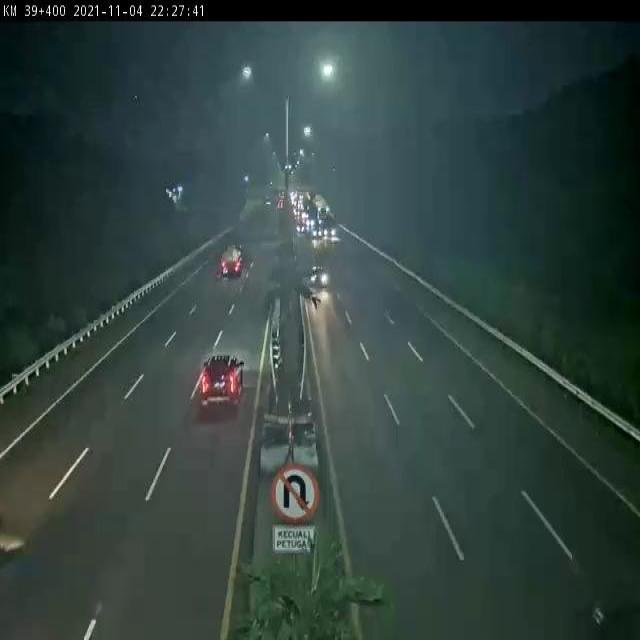car: (201, 356, 245, 411), (309, 266, 329, 290)
truck-l-: (219, 240, 247, 277)
